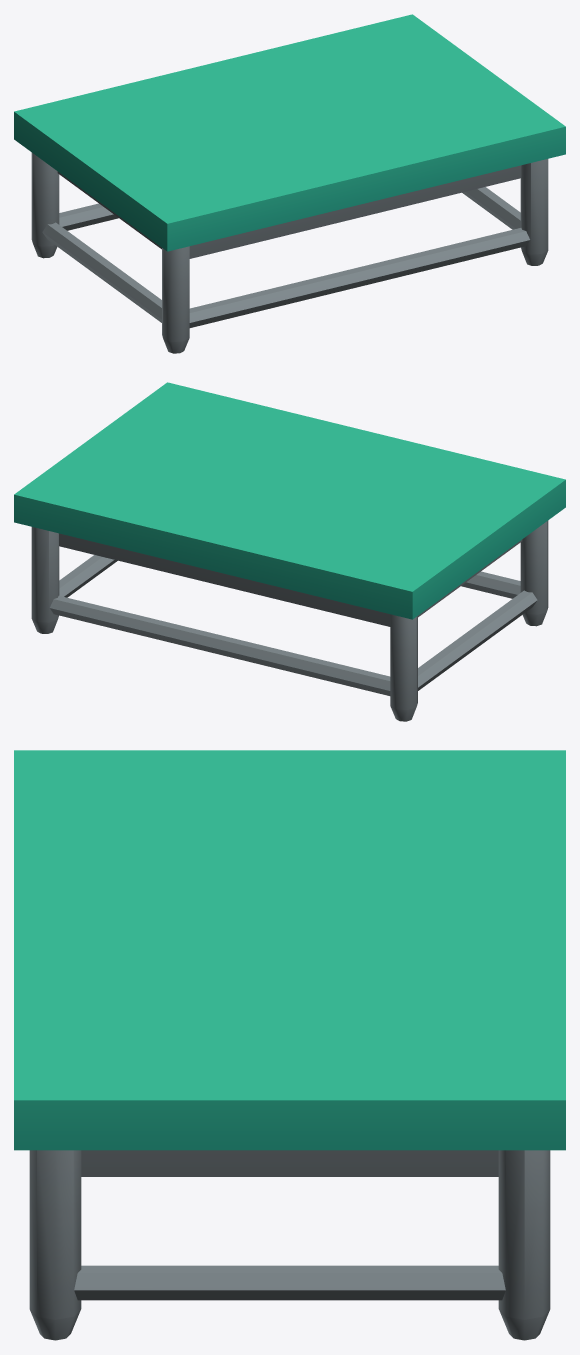
File: kay-kitchentable_b_large.glb
The picture shows the model from 3 angles, top to bottom: view 1: azimuth 30°, elevation 25°; view 2: azimuth 150°, elevation 25°; view 3: azimuth 270°, elevation 25°; orthographic projection. The views are drawn at different scales.
Parts seen in each view (by area): view 1: kitchentable_B_large; view 2: kitchentable_B_large; view 3: kitchentable_B_large.
Part boxes in pixels (left/top/right/bottom): kitchentable_B_large: left=14, top=14, right=565, bottom=353; kitchentable_B_large: left=14, top=382, right=565, bottom=721; kitchentable_B_large: left=14, top=750, right=565, bottom=1340.
Size of the model in its own units: 1.8 by 0.6023 by 1.2.
1 material, 1 textured.
